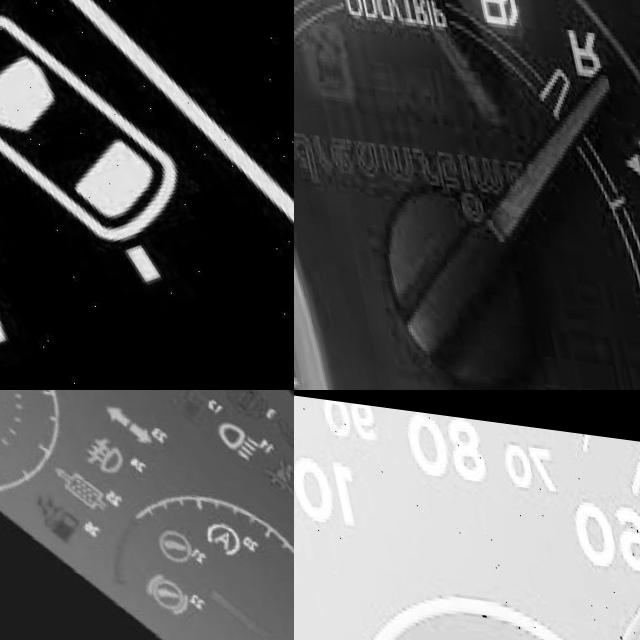Low fuel level: (154, 390, 212, 420)
